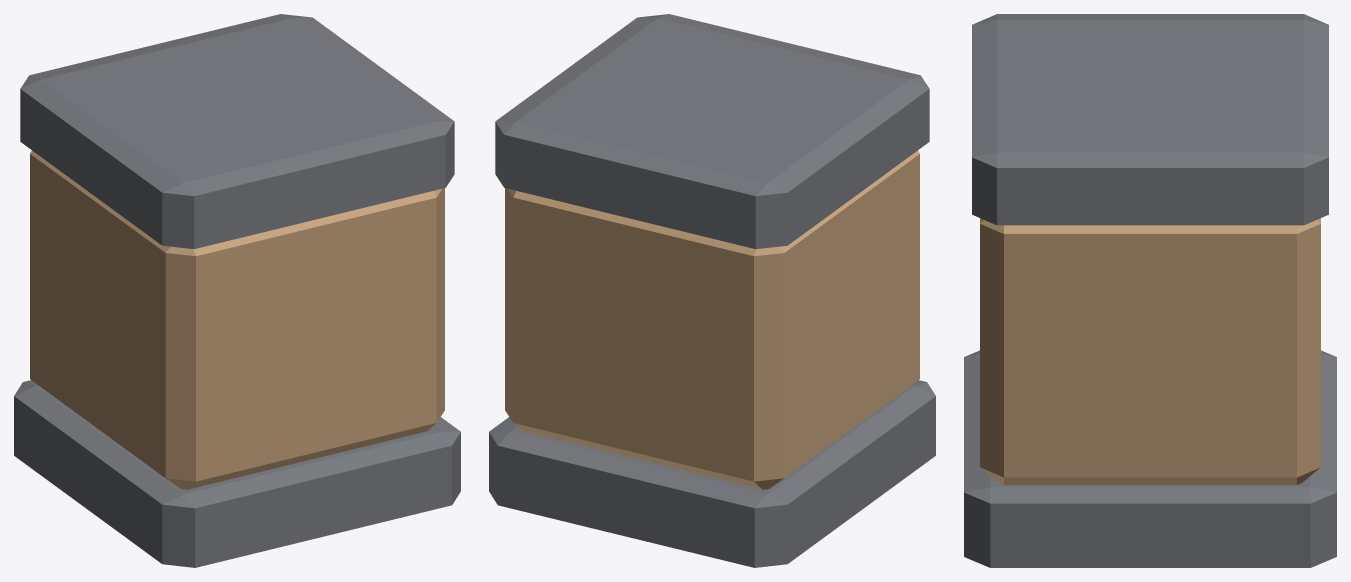
Rendered from b14_bulk_fertilizer_sack_on_pallet.glb.
3 views of the same model, side by side, from view 1: azimuth 30°, elevation 25°; view 2: azimuth 150°, elevation 25°; view 3: azimuth 270°, elevation 25° (orthographic). The views are drawn at different scales.
Visible parts, largest first — view 1: b14_bulk_fertilizer_sack_on_pallet; view 2: b14_bulk_fertilizer_sack_on_pallet; view 3: b14_bulk_fertilizer_sack_on_pallet.
Part boxes in pixels (x1,y1,x2,y2): b14_bulk_fertilizer_sack_on_pallet: (14, 14, 460, 567); b14_bulk_fertilizer_sack_on_pallet: (489, 14, 935, 567); b14_bulk_fertilizer_sack_on_pallet: (964, 14, 1336, 567).
Bounding box in the file's own units: 1.1 × 1.33 × 1.1.
